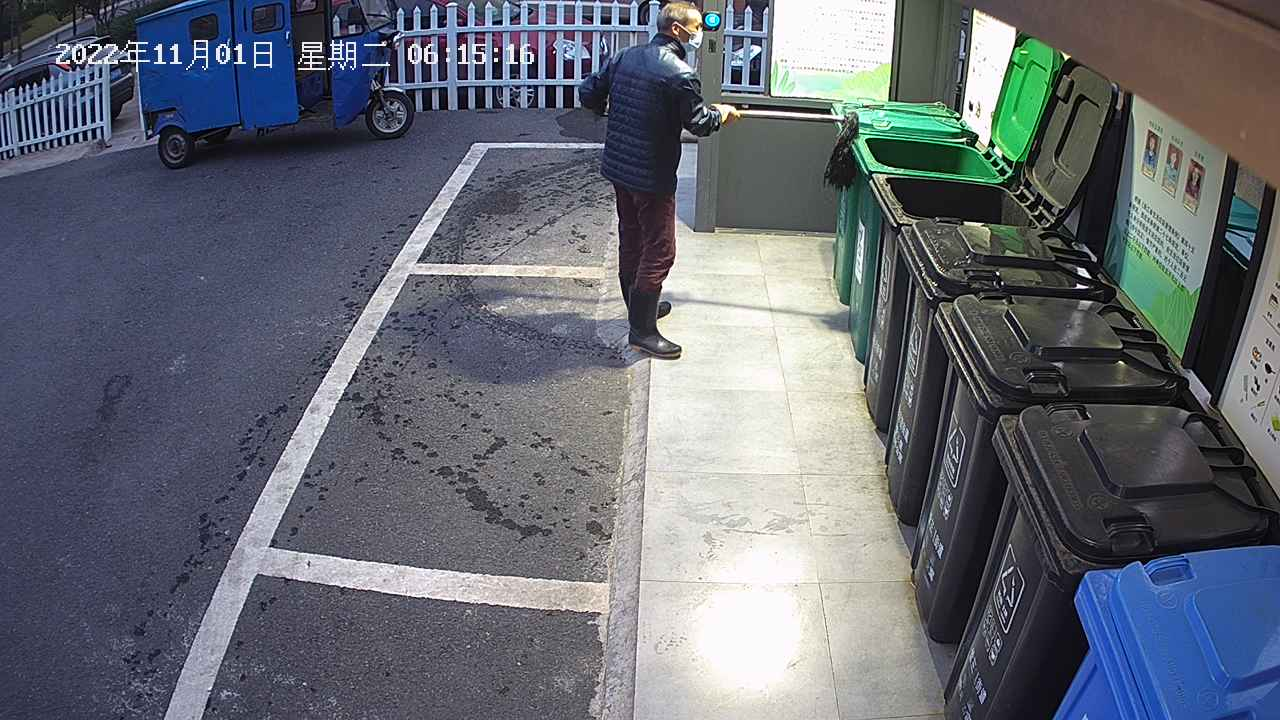person: (578, 2, 741, 359)
